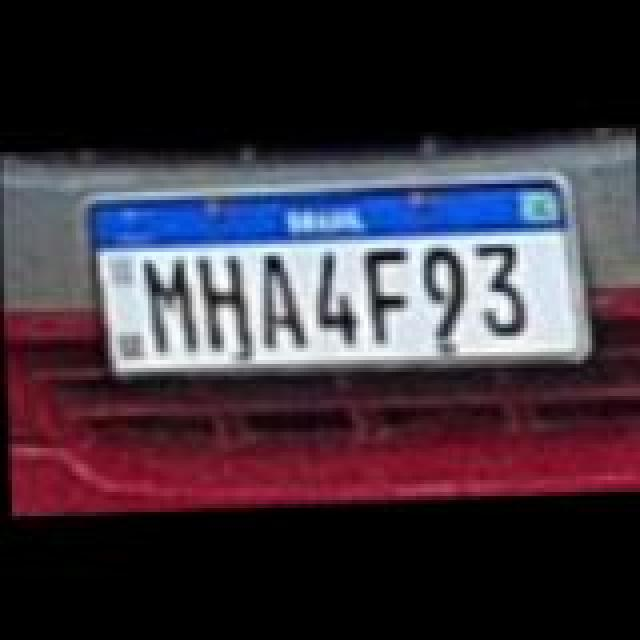3: (476, 240, 528, 336)
4: (310, 244, 358, 344)
9: (422, 242, 470, 338)
A: (256, 250, 308, 350)
F: (364, 244, 416, 340)
H: (198, 252, 254, 352)
M: (142, 254, 198, 358)
